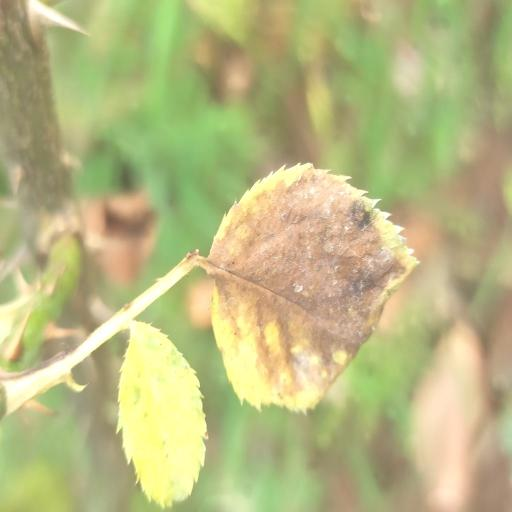healthy_leaf: (118, 322, 206, 506)
thrip: (203, 164, 416, 410)
